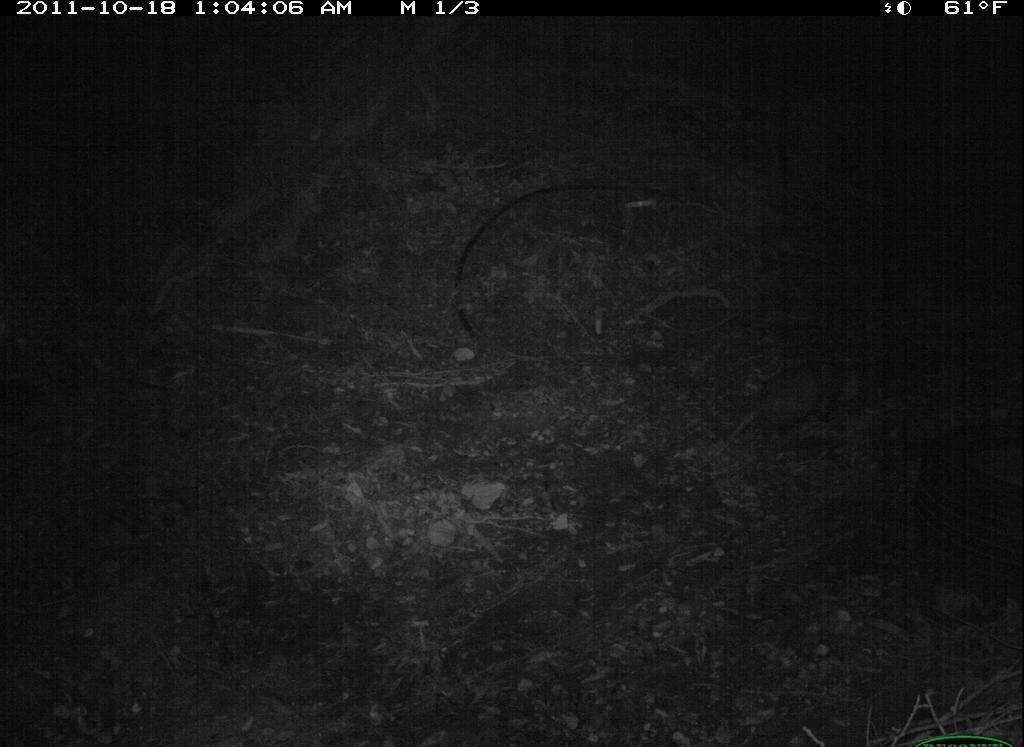opossum: (685, 341, 877, 486)
